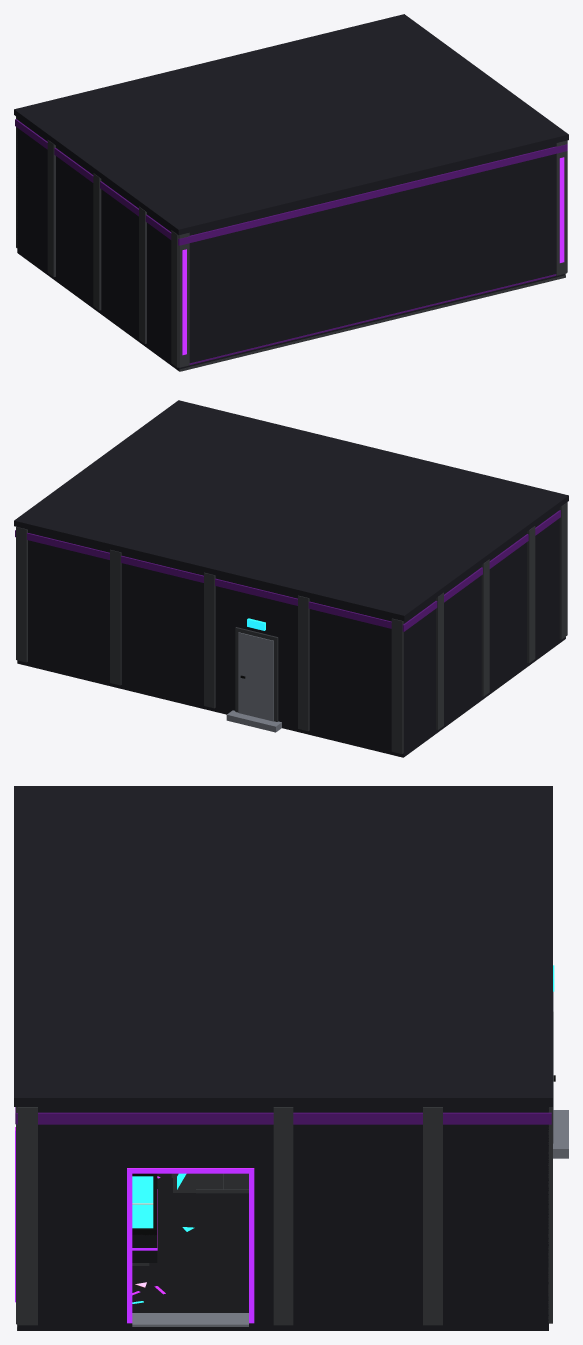
File: salle.glb
The picture shows the model from 3 angles, top to bottom: view 1: azimuth 30°, elevation 25°; view 2: azimuth 150°, elevation 25°; view 3: azimuth 270°, elevation 25°; orthographic projection. The views are drawn at different scales.
Visible parts, largest first — view 1: toit, mur_avant, walls_soot_black, walls_black_light, mur_avant_corniche, floor_soot_black, floor_black_light, walls_neon_purple_dark, walls_neon_purple, floor_neon_purple_dark; view 2: toit, walls_soot_black, walls_black_light, walls_neon_purple_dark, walls_mid_grey, floor_soot_black; view 3: toit, walls_soot_black, walls_black_light, floor_black, walls_neon_purple_dark, floor_soot_black, walls_neon_purple, walls_mid_grey, island_black_light, air_hockey_cyan, air_hockey_black.
Boxes of the visible parts, x1,y1,x2,y2 form: toit: [14, 14, 568, 235]; mur_avant: [174, 143, 565, 370]; walls_soot_black: [17, 117, 171, 360]; walls_black_light: [16, 116, 567, 367]; mur_avant_corniche: [178, 144, 567, 245]; floor_soot_black: [17, 248, 501, 370]; floor_black_light: [179, 275, 565, 371]; walls_neon_purple_dark: [15, 119, 178, 245]; walls_neon_purple: [182, 157, 564, 355]; floor_neon_purple_dark: [189, 274, 556, 364]; toit: [14, 400, 568, 621]; walls_soot_black: [28, 508, 559, 752]; walls_black_light: [16, 502, 567, 753]; walls_neon_purple_dark: [15, 510, 560, 631]; walls_mid_grey: [226, 632, 281, 732]; floor_soot_black: [17, 637, 565, 757]; toit: [14, 786, 552, 1106]; walls_soot_black: [38, 1107, 548, 1322]; walls_black_light: [16, 1107, 552, 1325]; floor_black: [132, 1173, 248, 1312]; walls_neon_purple_dark: [17, 1112, 551, 1124]; floor_soot_black: [18, 1323, 548, 1330]; walls_neon_purple: [15, 1127, 254, 1323]; walls_mid_grey: [132, 991, 568, 1326]; island_black_light: [171, 1173, 248, 1193]; air_hockey_cyan: [132, 1176, 153, 1228]; air_hockey_black: [132, 1234, 157, 1262].
Bounding box in the file's own units: 11.18 × 3.9 × 8.36.
